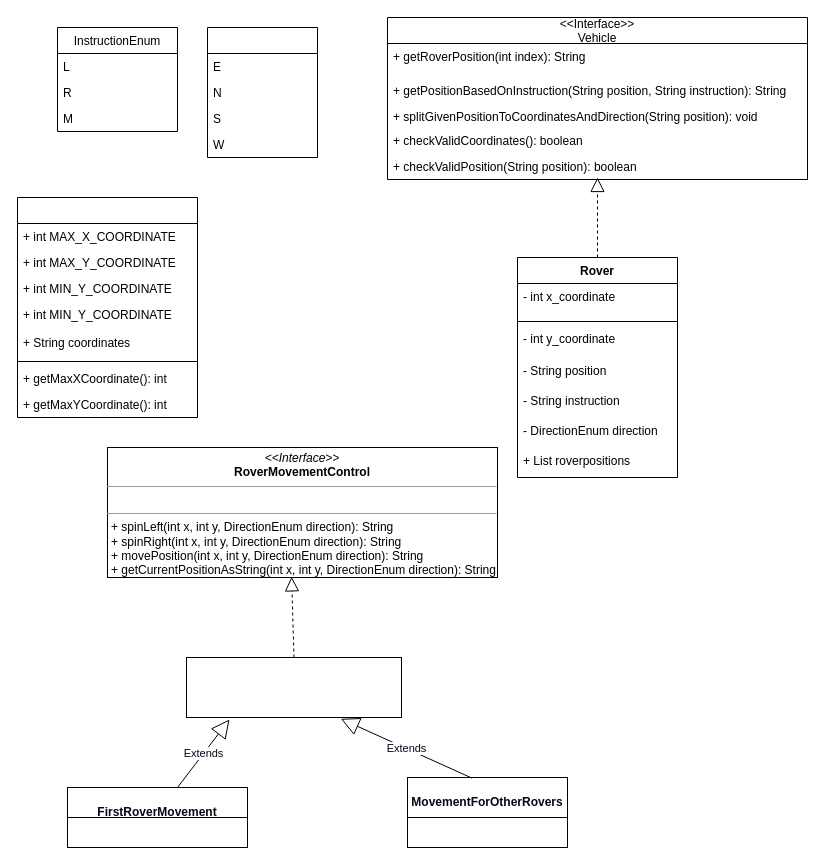
The diagram is 825 pixels wide and 865 high, and some of its shapes have lost their labels. The box of each missing label's shape, as (x1, y1, x2, y2) in pixels:
DirectionEnum: (206, 26, 318, 158)
Plateau: (16, 196, 198, 418)
RoverMovementControlImpl - String Position: (186, 656, 402, 718)
